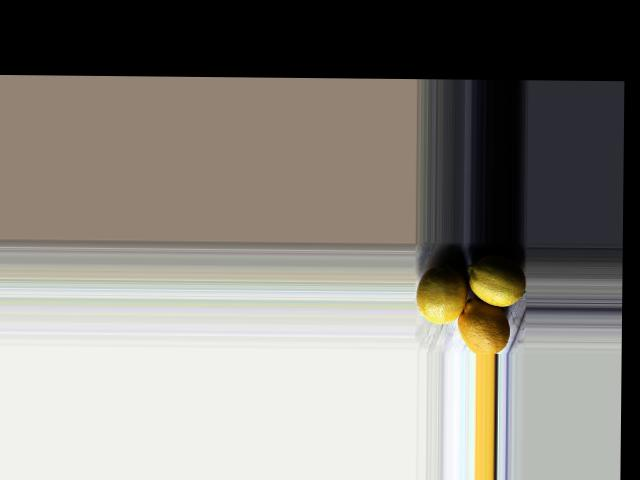lemon: (415, 259, 463, 324)
